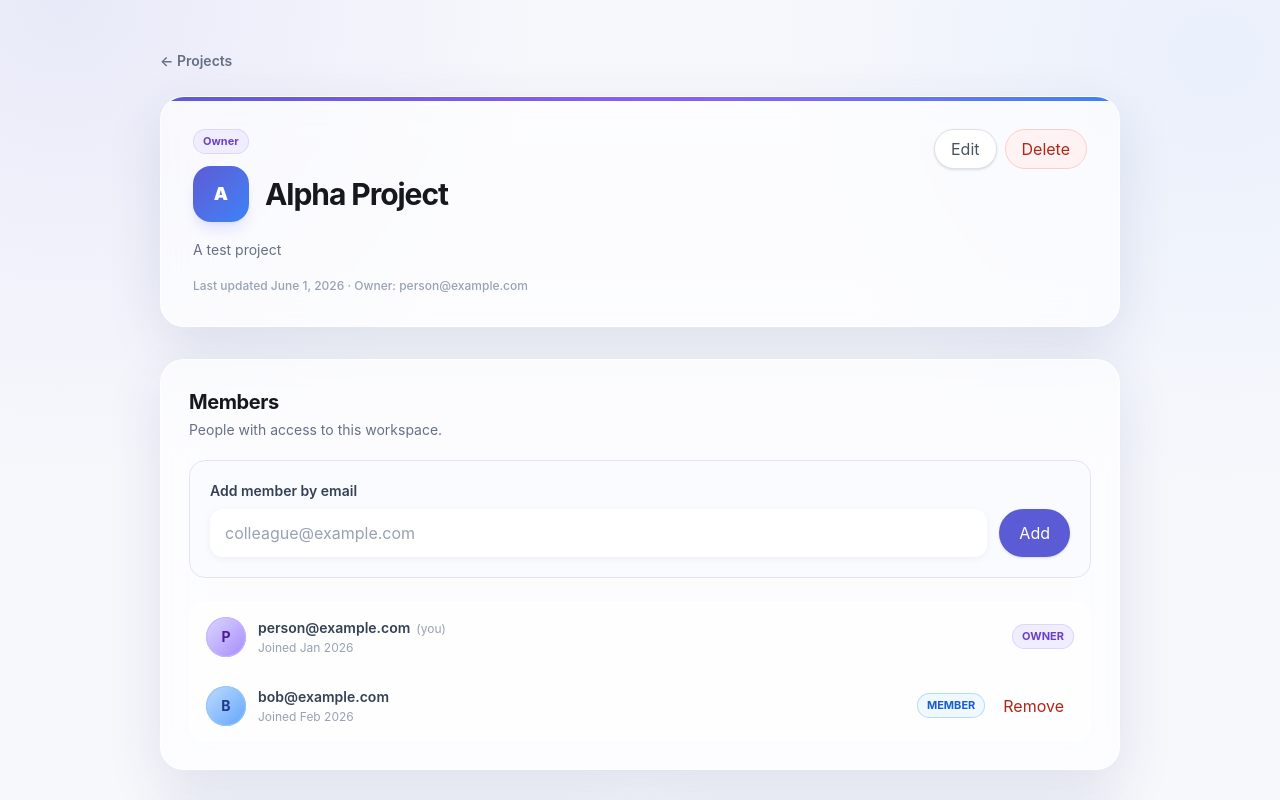
Test case: ProjectDetailPage › cancels delete dialog without deleting
The image size is (1280, 800).
Click the button "Delete" at (1046, 149), box [1004,129,1087,169]
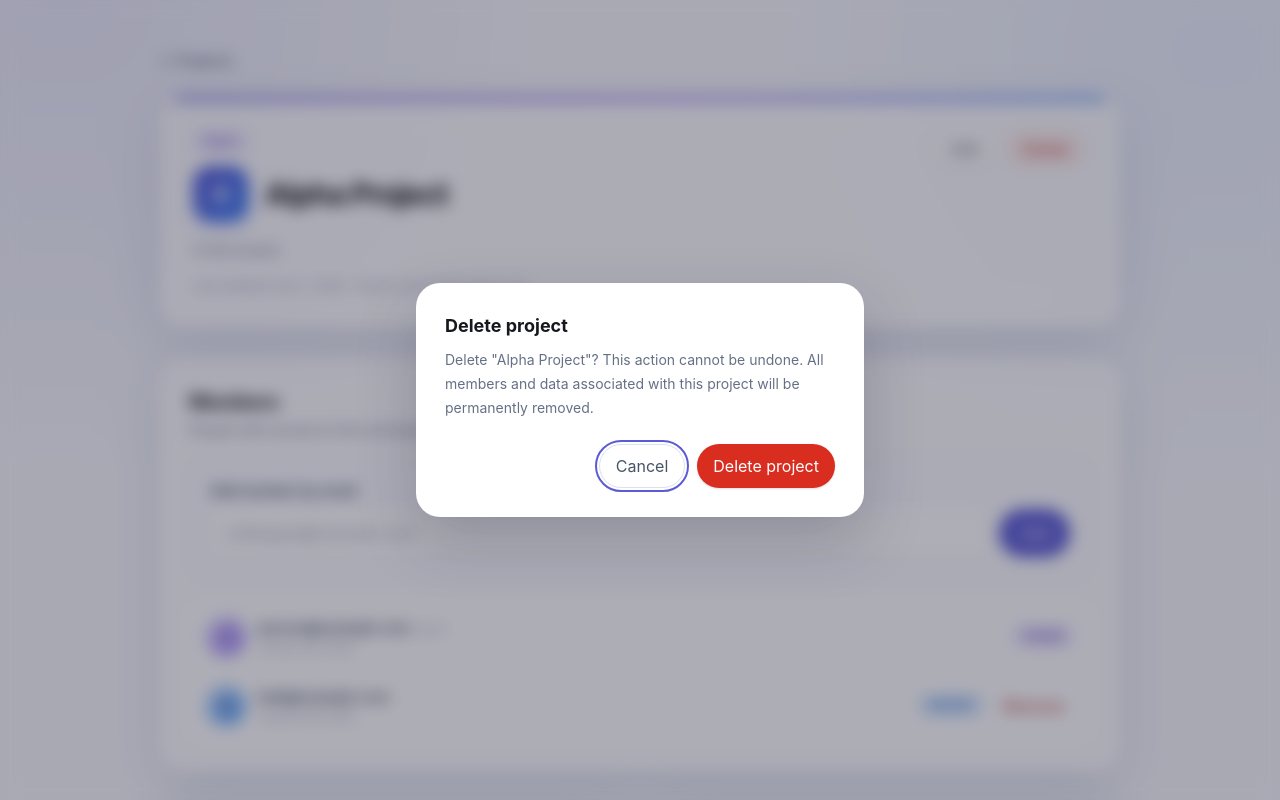
Click the button "Cancel" at (642, 466), box [599,444,685,488]
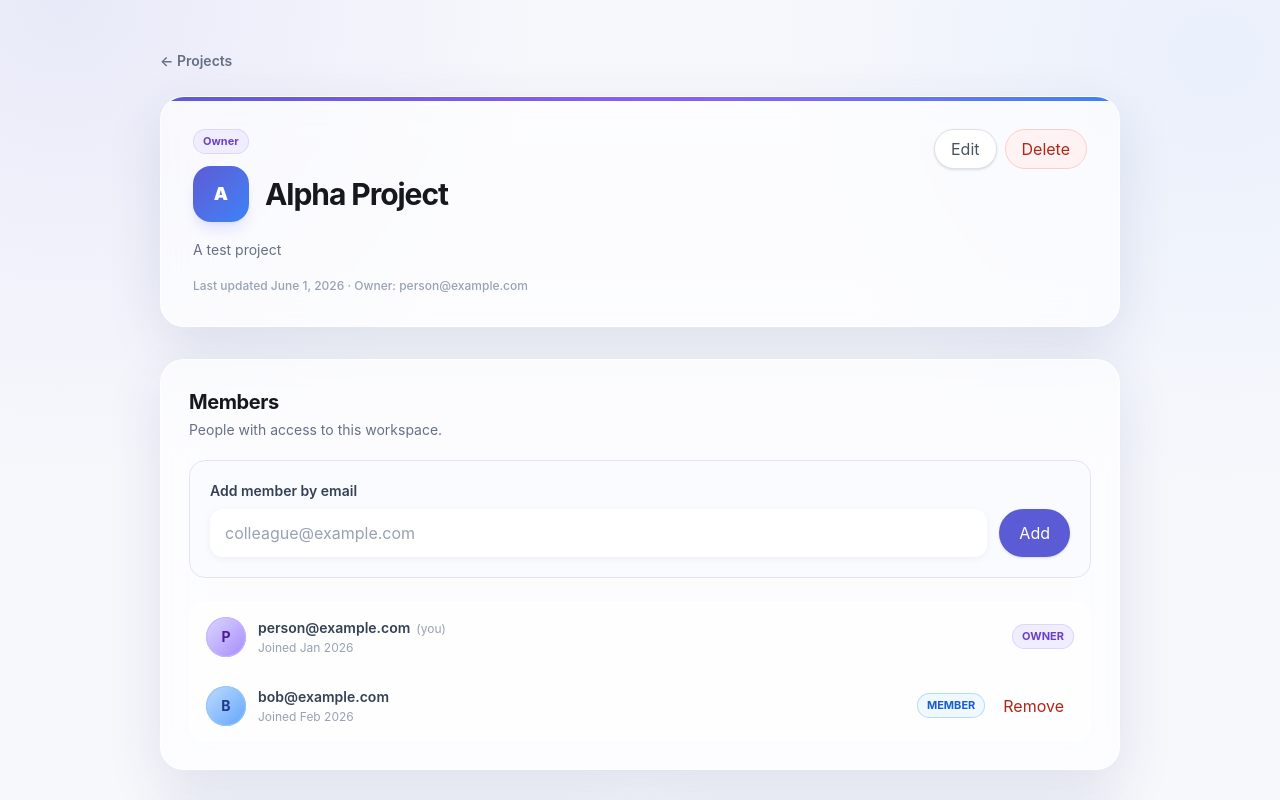
Now the dialog is gone
